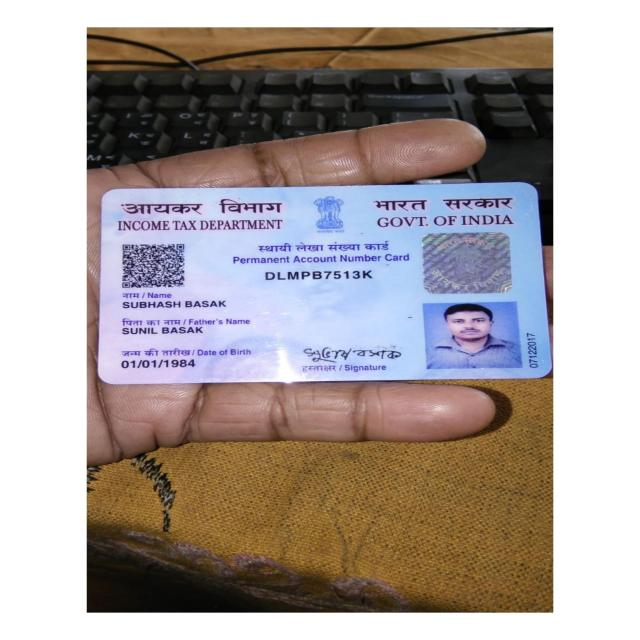pan_card: (103, 190, 542, 378)
